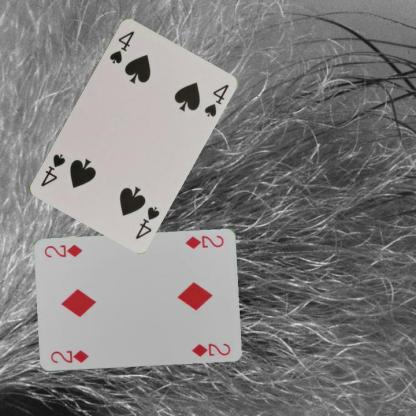2d: (182, 233, 224, 251), (48, 348, 90, 364)
4s: (106, 27, 136, 64), (132, 204, 161, 240)
